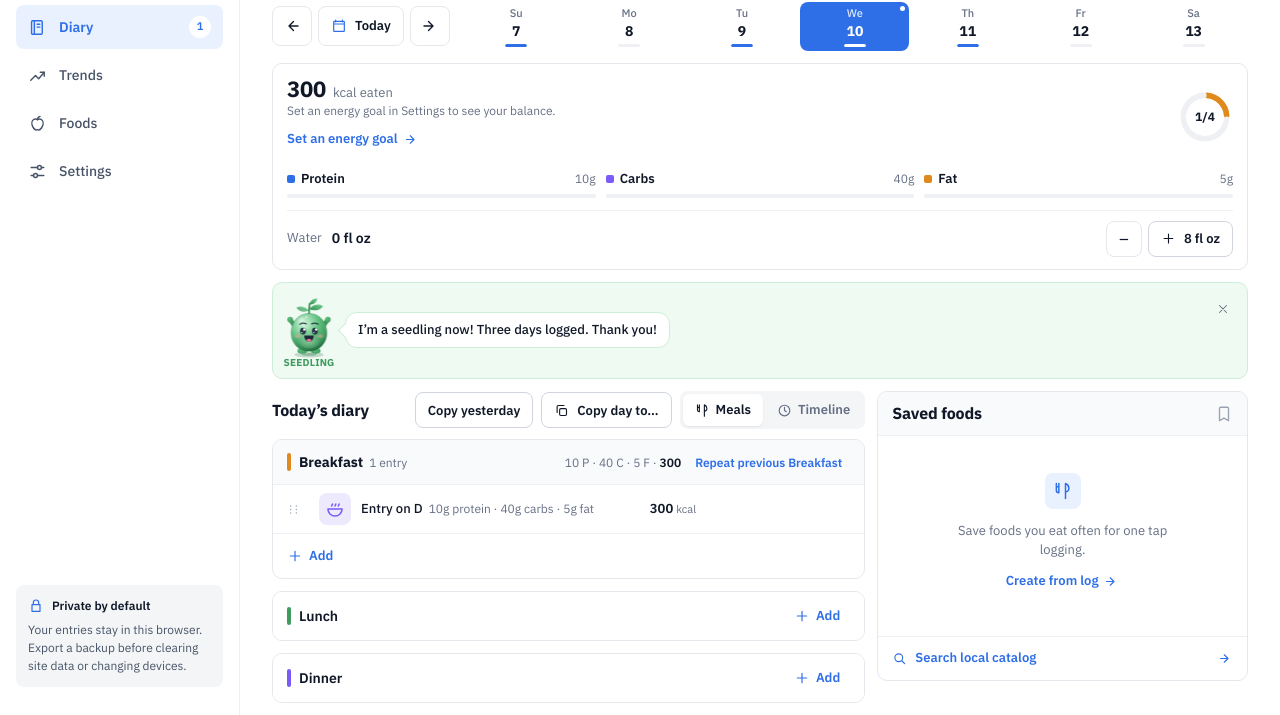
Test: Log weight default date › defaults to the current day when opened at load
Expected: the text "Entry on D" is shown, [361,500,423,519]
Click the button "Trends" at [120, 75], box [16,53,223,97]
(page scrolled)
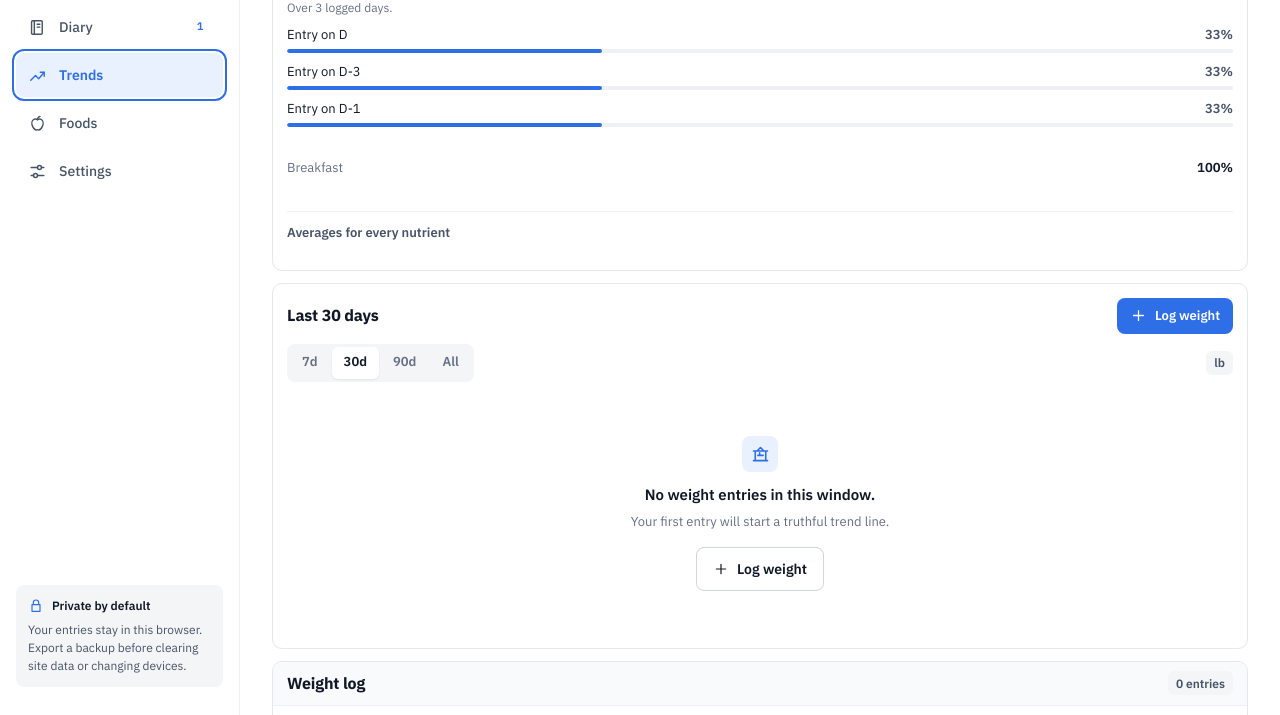
Click the button "Log weight" in the row of "Last 30 days" at [1175, 316], box [1117,298,1233,334]
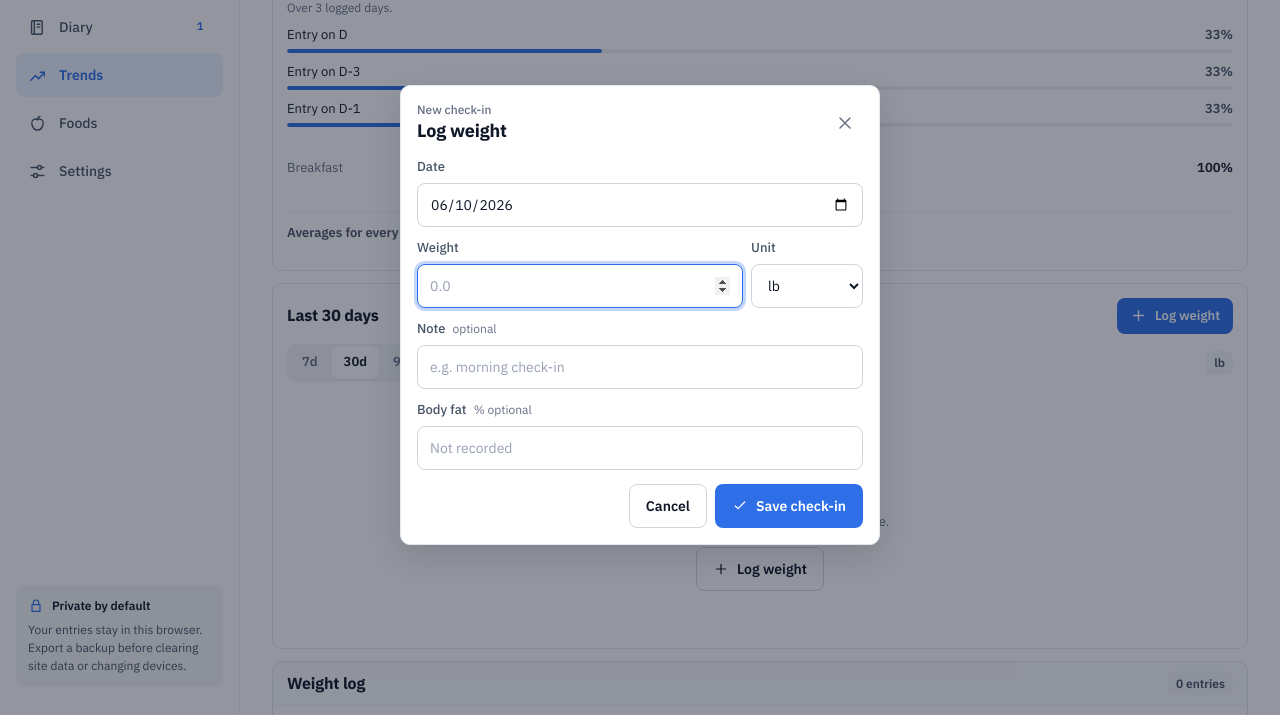
Now the date field labelled "Date" holds "2026-06-10", box [417,183,863,227]
